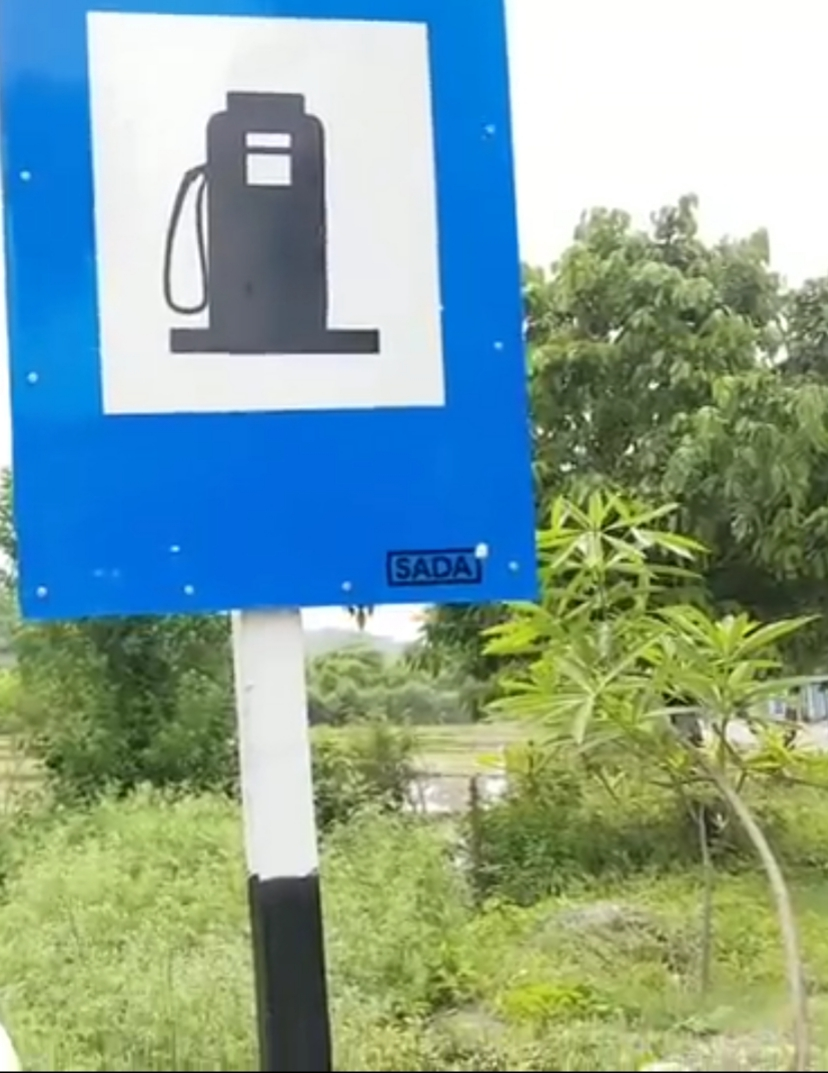traffic_sign: (0, 0, 537, 621)
